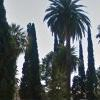Palm tree: (43, 2, 84, 88)
